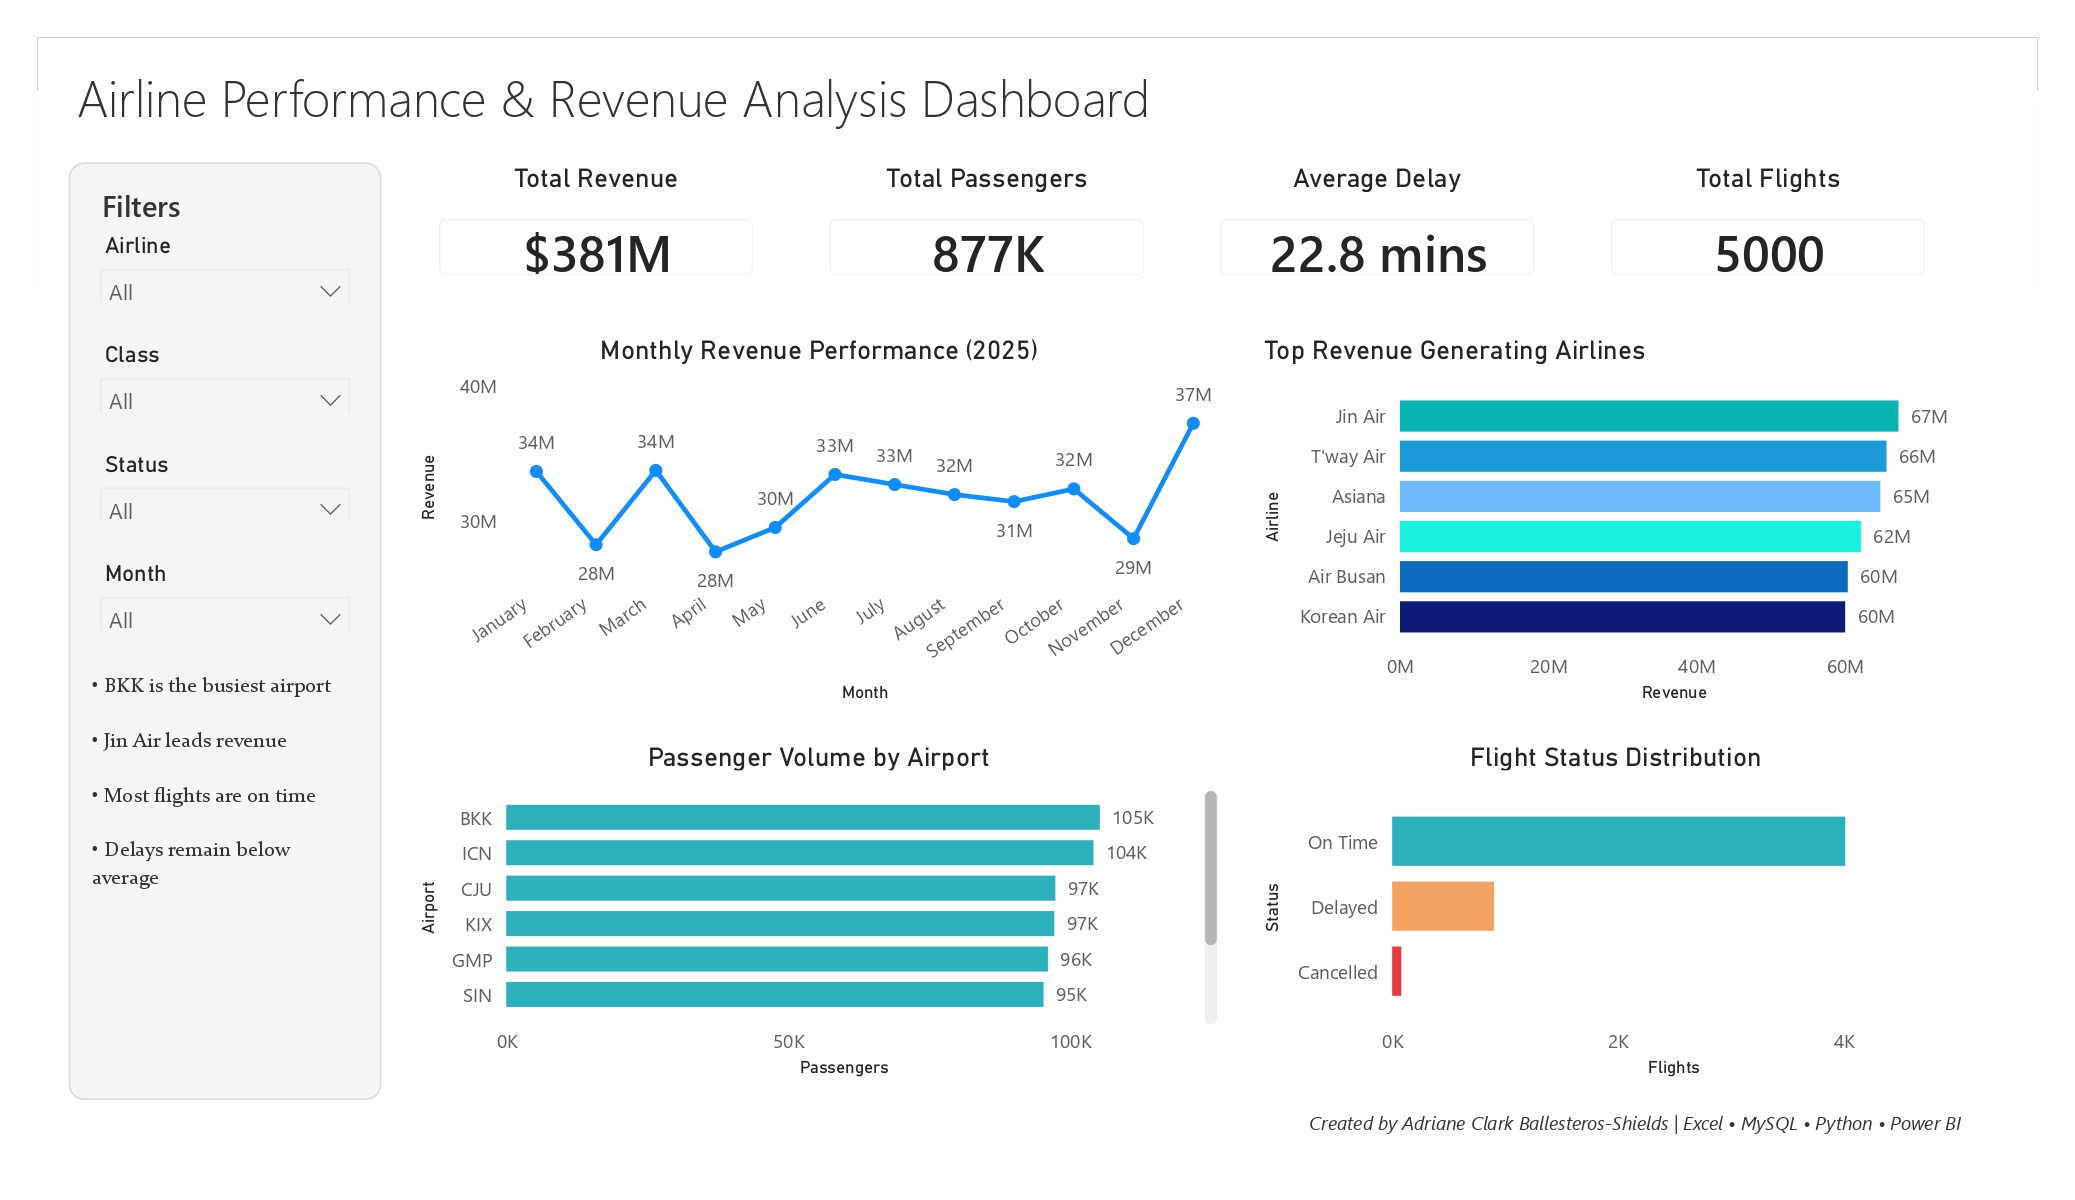

What the dashboard file says about the page in this screenshot:
{"tool":"powerbi","page":{"name":"Page 1","canvas":[1280,720],"ordinal":0},"visuals":[{"type":"shape","box":[20,80,200,600],"z":0,"group":"g1"},{"type":"cardVisual","title":"Total Revenue","fields":{"Data":["Airline_Data_5000.Total Revenue"]},"box":[240,80,235,90],"z":1000},{"type":"cardVisual","title":"Total Passengers","fields":{"Data":["Airline_Data_5000.Total Passengers"]},"box":[490,80,235,90],"z":2000},{"type":"cardVisual","title":"Average Delay","fields":{"Data":["Airline_Data_5000.Average Delay Label"]},"box":[740,80,235,90],"z":3000},{"type":"cardVisual","title":"Total Flights","fields":{"Data":["Airline_Data_5000.Total Flights"]},"box":[990,80,235,90],"z":4000},{"type":"barChart","title":"Top Revenue Generating Airlines","fields":{"Category":["Airline_Data_5000.Airline"],"Y":["Sum(Airline_Data_5000.Revenue)"]},"box":[780,190,460,240],"z":5000},{"type":"barChart","title":"Passenger Volume by Airport","fields":{"Category":["Airline_Data_5000.DepartureAirport"],"Y":["Sum(Airline_Data_5000.Passengers)"]},"box":[240,450,520,220],"z":6000},{"type":"lineChart","title":"Monthly Revenue Performance (2025)","fields":{"Category":["Airline_Data_5000.FlightDate.Variation.Date Hierarchy.Month"],"Y":["Sum(Airline_Data_5000.Revenue)"]},"box":[240,190,520,240],"z":7000},{"type":"clusteredBarChart","title":"Flight Status Distribution","fields":{"Category":["Airline_Data_5000.Status"],"Y":["CountNonNull(Airline_Data_5000.FlightID)"]},"box":[780,450,460,220],"z":8000},{"type":"slicer","fields":{"Values":["Airline_Data_5000.Airline"]},"box":[30,120,180,49],"z":9000,"group":"g1"},{"type":"slicer","fields":{"Values":["Airline_Data_5000.Class"]},"box":[30,190,180,50],"z":10000,"group":"g1"},{"type":"slicer","fields":{"Values":["Airline_Data_5000.Status"]},"box":[30,260,180,50],"z":11000,"group":"g1"},{"type":"slicer","fields":{"Values":["Airline_Data_5000.FlightDate.Variation.Date Hierarchy.Month"]},"box":[30,330,180,50],"z":12000,"group":"g1"},{"type":"textbox","box":[20,11.1,752.2,55.6],"z":13000},{"type":"textbox","box":[35.6,90,71.1,48.9],"z":14000,"group":"g1"},{"type":"group","id":"g1","title":"Group 1","box":[20,80,200,600],"z":14001},{"type":"textbox","box":[808.6,679.9,452.7,39.4],"z":14002},{"type":"textbox","box":[30,400,180,180],"z":14003}]}

Visuals, with their boxes on the page's 1280x720 design canvas (x1, y1, x2, y2). These are canvas units, not pixel positions in the 2075x1200 screenshot, which may show the page scaled, cropped or inside an application window:
shape: box=[20, 80, 220, 680]
"Total Revenue" cardVisual: box=[240, 80, 475, 170]
"Total Passengers" cardVisual: box=[490, 80, 725, 170]
"Average Delay" cardVisual: box=[740, 80, 975, 170]
"Total Flights" cardVisual: box=[990, 80, 1225, 170]
"Top Revenue Generating Airlines" barChart: box=[780, 190, 1240, 430]
"Passenger Volume by Airport" barChart: box=[240, 450, 760, 670]
"Monthly Revenue Performance (2025)" lineChart: box=[240, 190, 760, 430]
"Flight Status Distribution" clusteredBarChart: box=[780, 450, 1240, 670]
slicer - Airline_Data_5000.Airline: box=[30, 120, 210, 169]
slicer - Airline_Data_5000.Class: box=[30, 190, 210, 240]
slicer - Airline_Data_5000.Status: box=[30, 260, 210, 310]
slicer - Airline_Data_5000.FlightDate.Variation.Date Hierarchy.Month: box=[30, 330, 210, 380]
textbox: box=[20, 11, 772, 67]
textbox: box=[36, 90, 107, 139]
"Group 1" group: box=[20, 80, 220, 680]
textbox: box=[809, 680, 1261, 719]
textbox: box=[30, 400, 210, 580]
